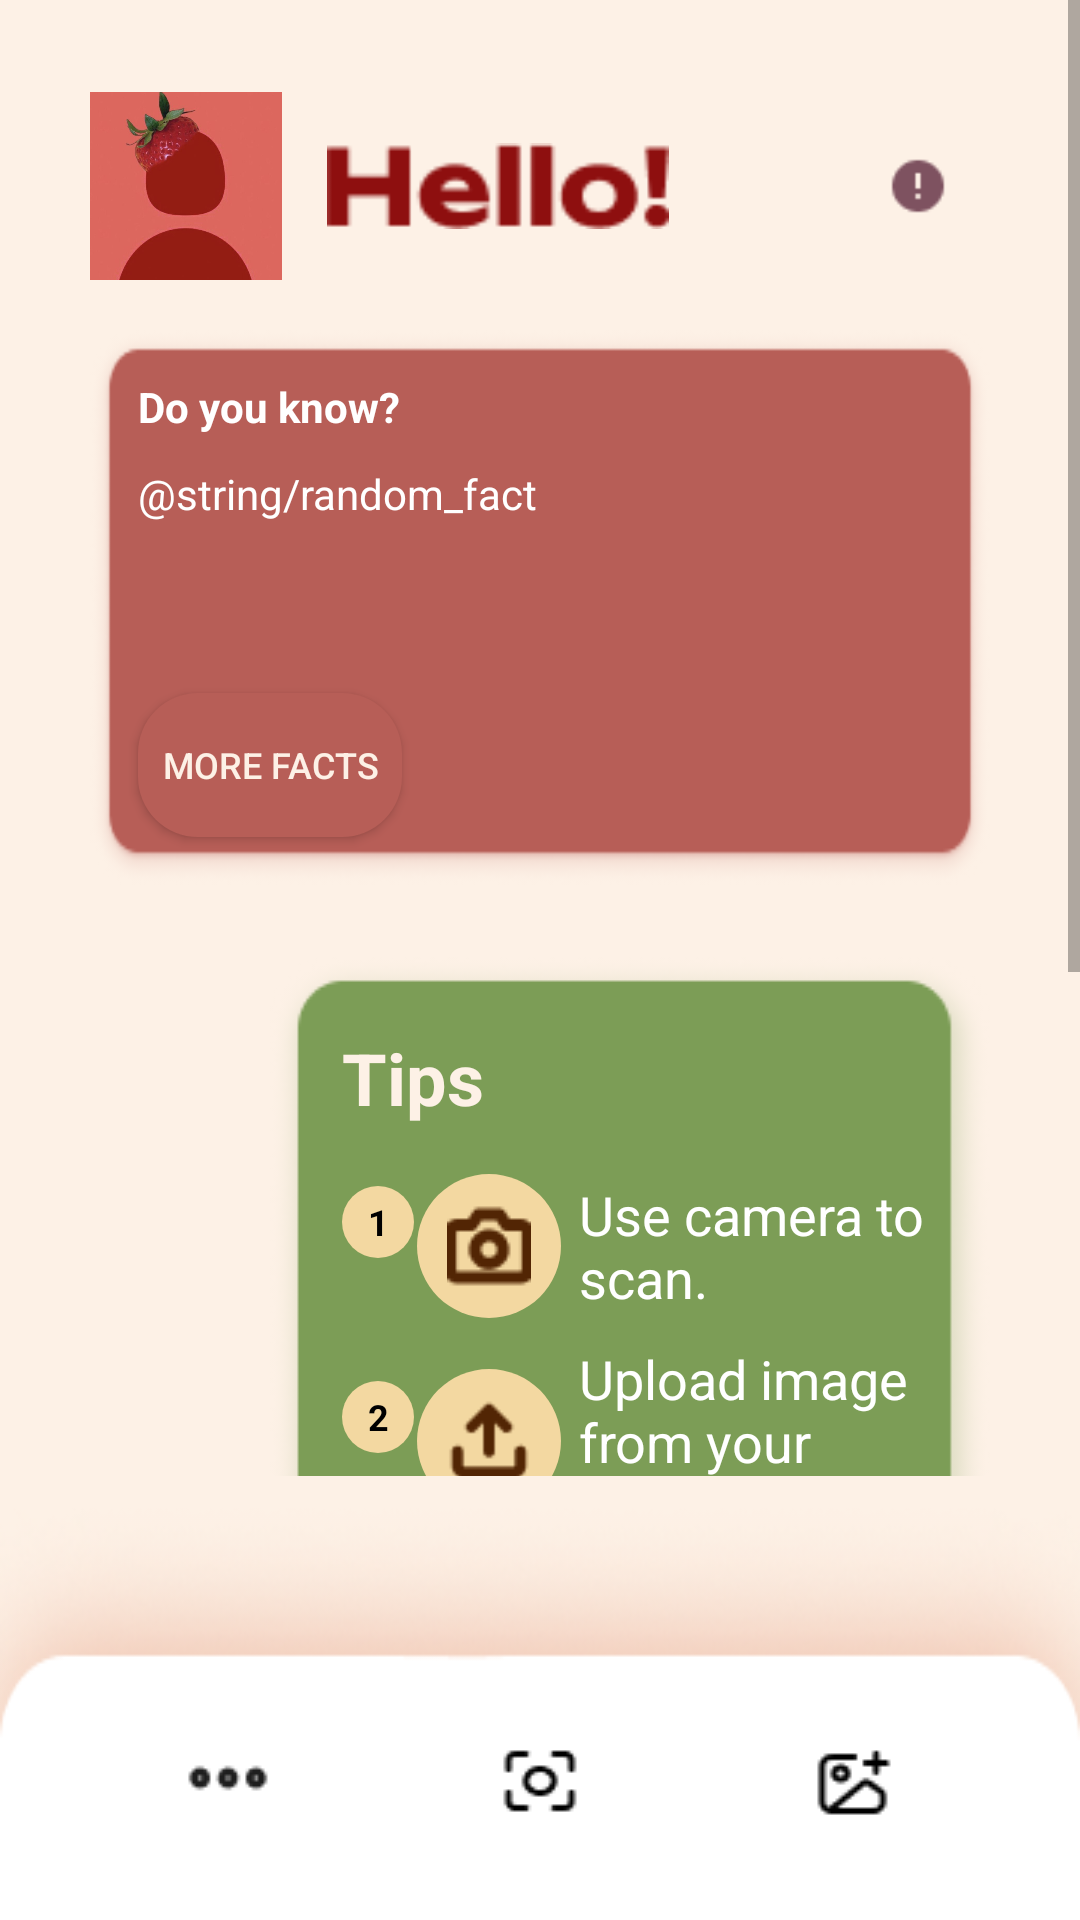

Screen size 1080 x 1920. Icon name, then its box in pixels as detection(x1, y1, x2, y2):
home camera: detection(417, 1174, 561, 1318)
strawberry profile: detection(90, 92, 282, 280)
